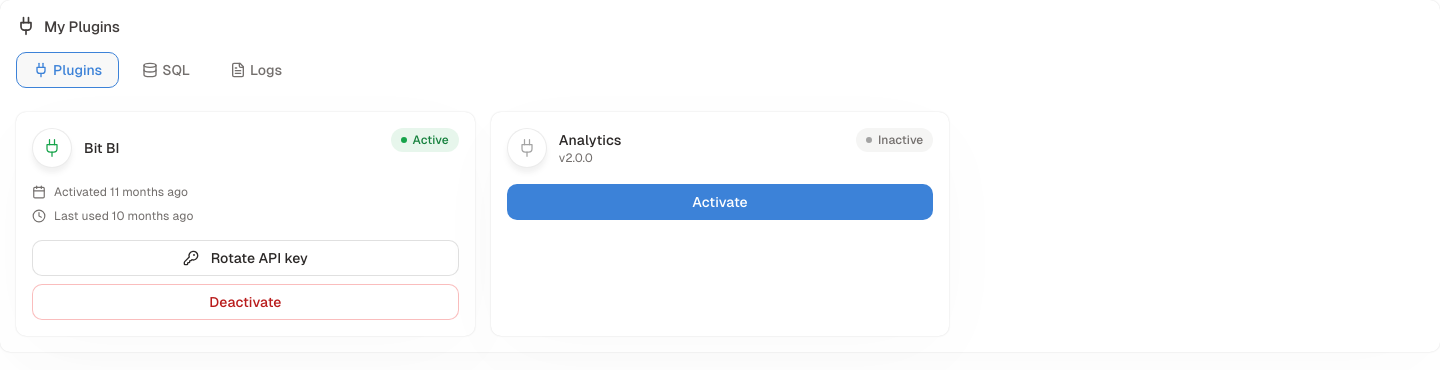
it: MyPluginsWidget › Tabs › should show log entries when Logs tab is active
This screenshot has width=1440, height=370.
Click the tab "Logs".
click(256, 70)  # box x1=213 y1=52 x2=299 y2=88
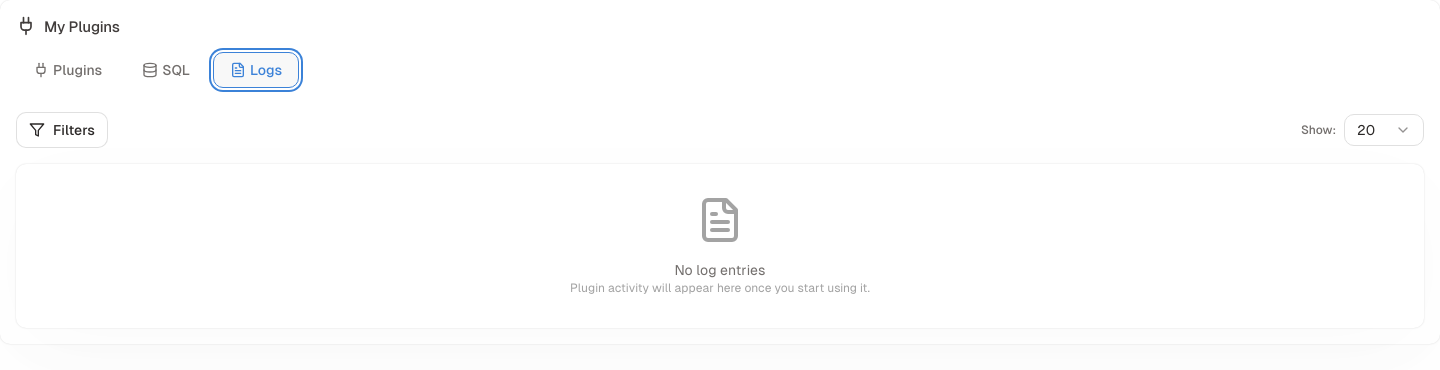
Expected: the text "No log entries" is shown, x1=674 y1=262 x2=766 y2=278
